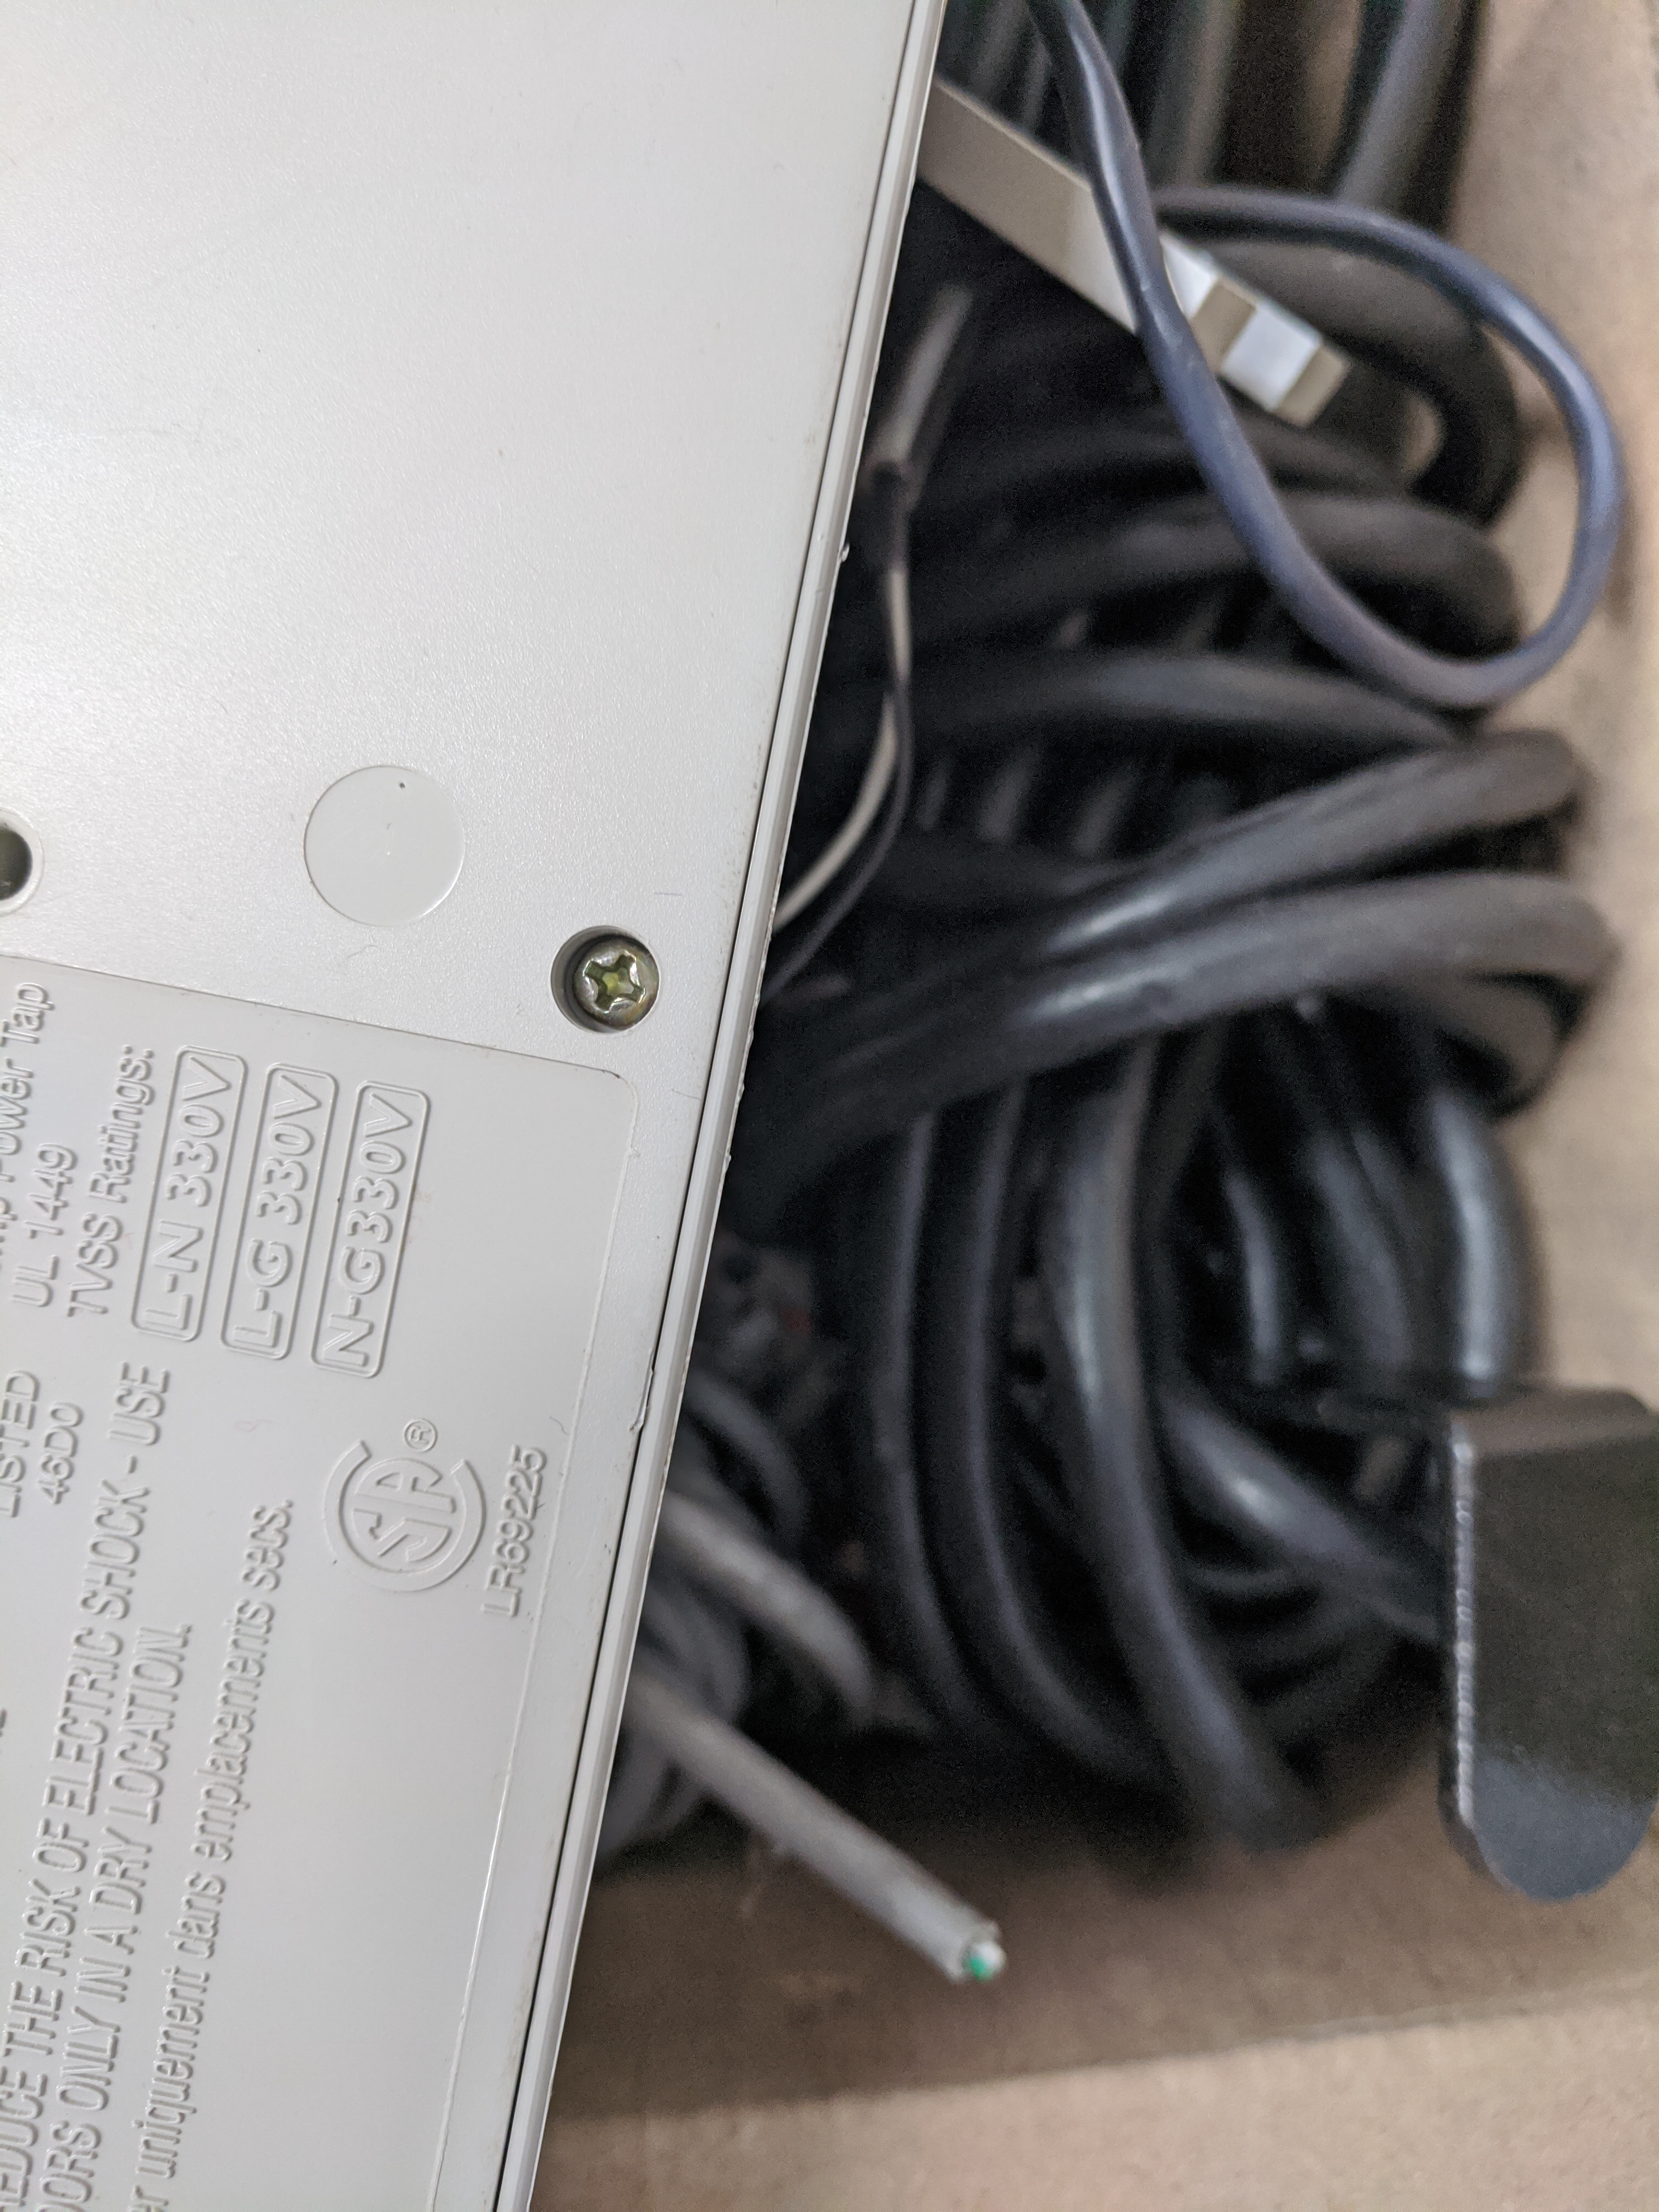cross_recessed_screw: (533, 911, 669, 1038)
